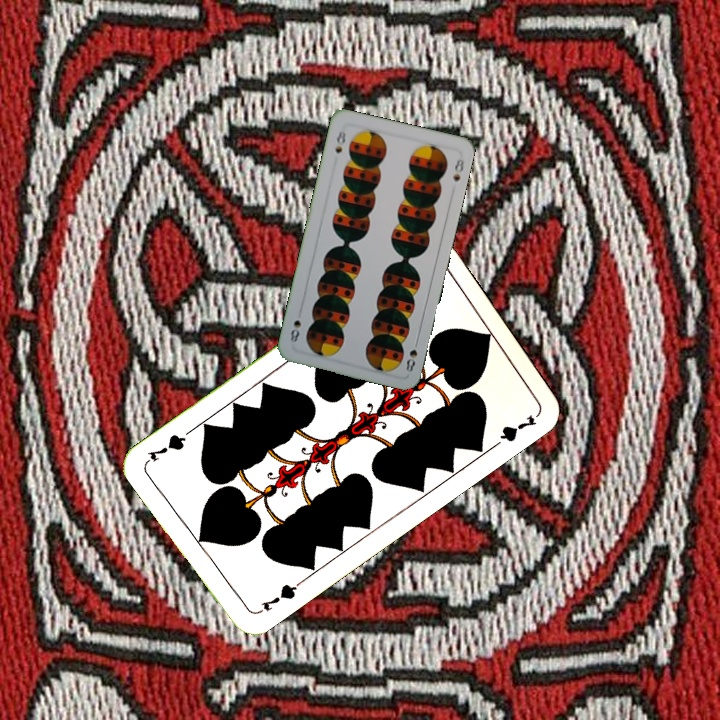G7: (252, 577, 304, 617)
S8: (402, 335, 421, 375), (331, 125, 349, 156)
